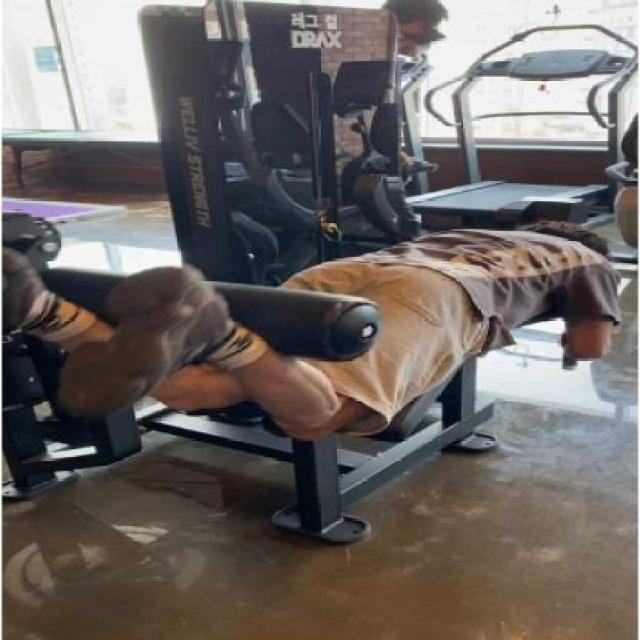reg curl machine: (0, 0, 626, 554)
